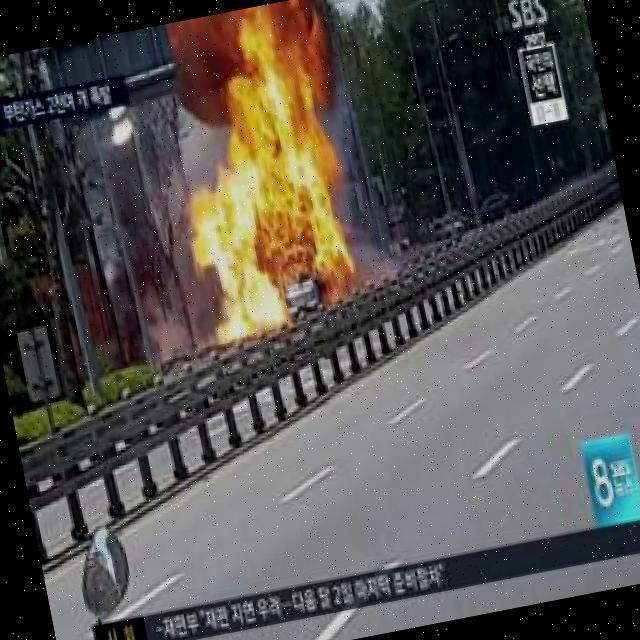Fire: (177, 92, 357, 334), (212, 12, 314, 106)
